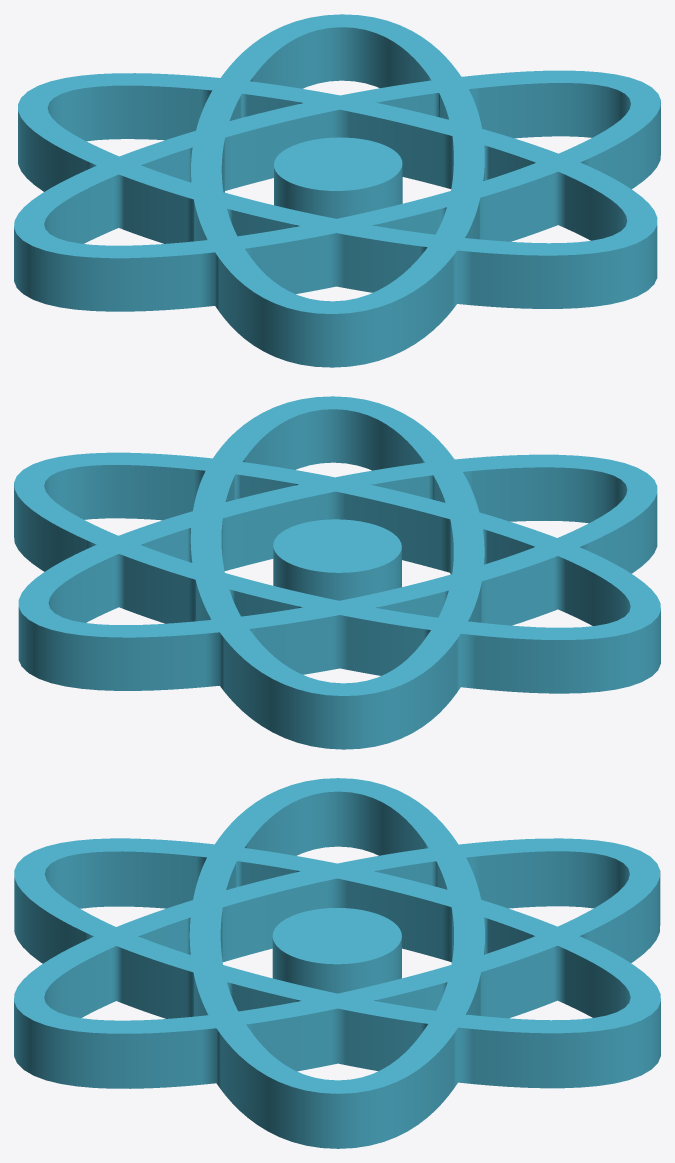
The model's file is react.gltf.
3 renders of one model, top to bottom at view 1: azimuth 30°, elevation 25°; view 2: azimuth 150°, elevation 25°; view 3: azimuth 270°, elevation 25°, orthographic. The views are drawn at different scales.
Parts seen in each view (by area): view 1: Curve; view 2: Curve; view 3: Curve.
Boxes of the visible parts, box(x1,y1,x2,y2) form: Curve: box(14, 14, 660, 367); Curve: box(14, 396, 660, 749); Curve: box(14, 778, 660, 1148).
Bounding box in the file's own units: 0.7382 × 0.06 × 0.6392.
